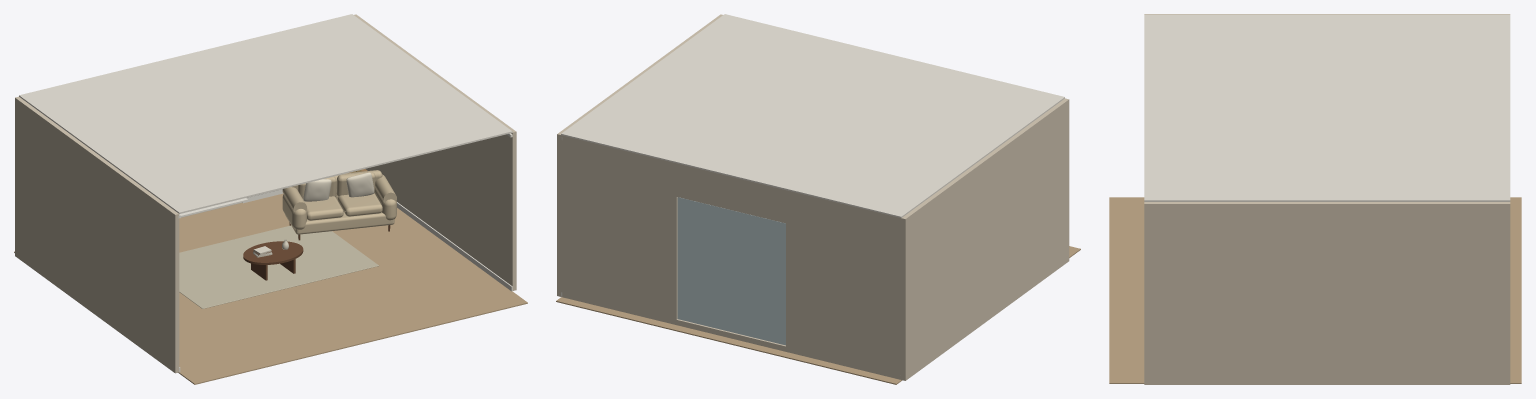
File: lounge.glb
The picture shows the model from 3 angles, left to right: view 1: azimuth 30°, elevation 25°; view 2: azimuth 150°, elevation 25°; view 3: azimuth 270°, elevation 25°; orthographic projection. The views are drawn at different scales.
Parts seen in each view (by area): view 1: CEILING_MATERIAL, WALL_MATERIAL, FLOOR_MATERIAL, RUG_FIXED, SEATING_UPHOLSTERY, DARK_TIMBER, TRIM, CUSHION_UPHOLSTERY; view 2: WALL_MATERIAL, CEILING_MATERIAL, GLASS_VIEW, FLOOR_MATERIAL; view 3: CEILING_MATERIAL, WALL_MATERIAL, FLOOR_MATERIAL.
Part boxes in pixels (bbox=[...]): CEILING_MATERIAL: bbox=[19, 14, 512, 213]; WALL_MATERIAL: bbox=[15, 14, 516, 373]; FLOOR_MATERIAL: bbox=[14, 193, 527, 384]; RUG_FIXED: bbox=[179, 225, 378, 308]; SEATING_UPHOLSTERY: bbox=[282, 170, 396, 234]; DARK_TIMBER: bbox=[243, 222, 390, 280]; TRIM: bbox=[178, 133, 512, 372]; CUSHION_UPHOLSTERY: bbox=[303, 172, 374, 201]; WALL_MATERIAL: bbox=[557, 14, 1069, 380]; CEILING_MATERIAL: bbox=[561, 14, 1064, 217]; GLASS_VIEW: bbox=[677, 197, 785, 345]; FLOOR_MATERIAL: bbox=[556, 246, 1080, 384]; CEILING_MATERIAL: bbox=[1144, 14, 1510, 201]; WALL_MATERIAL: bbox=[1144, 14, 1510, 384]; FLOOR_MATERIAL: bbox=[1109, 197, 1521, 383].
Bounding box in the file's own units: 6.76 × 3.05 × 6.2.
